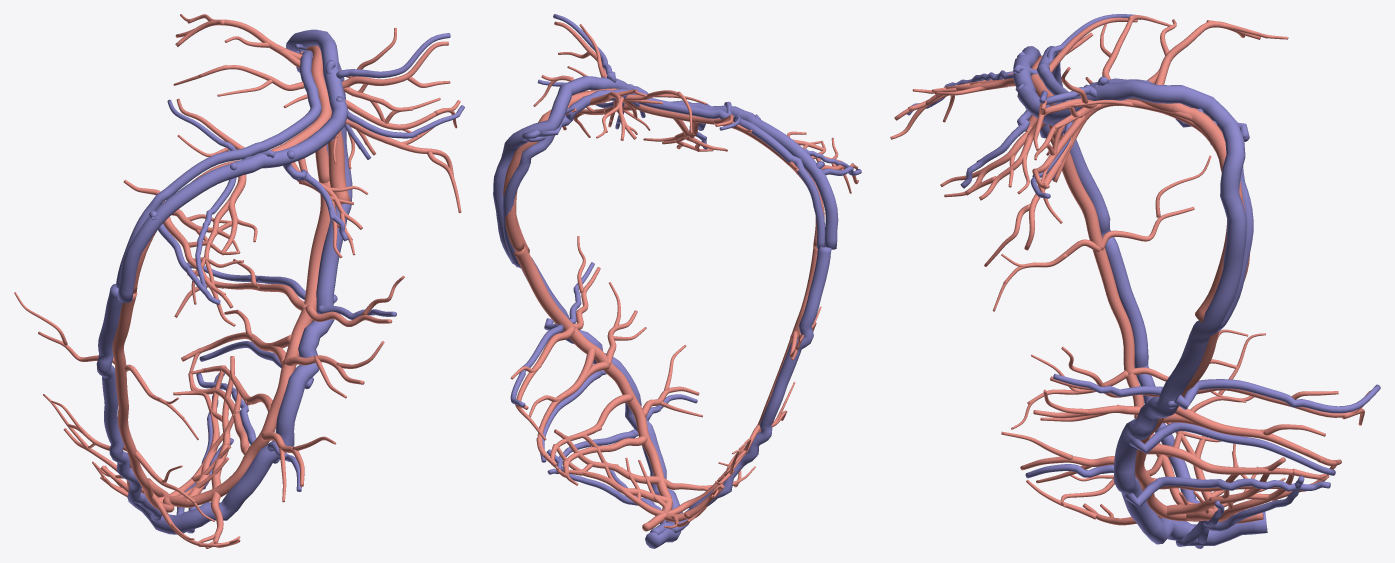
File: vessels_56.glb
3 views of the same model, side by side, from view 1: azimuth 30°, elevation 25°; view 2: azimuth 150°, elevation 25°; view 3: azimuth 270°, elevation 25° (orthographic). The views are drawn at different scales.
Parts seen in each view (by area): view 1: Renderer Node; view 2: Renderer Node; view 3: Renderer Node.
Part boxes in pixels (bbox=[...]): Renderer Node: bbox=[14, 14, 464, 548]; Renderer Node: bbox=[493, 14, 861, 548]; Renderer Node: bbox=[890, 14, 1380, 548].
Size of the model in its own units: 94.77 by 122 by 95.44.
